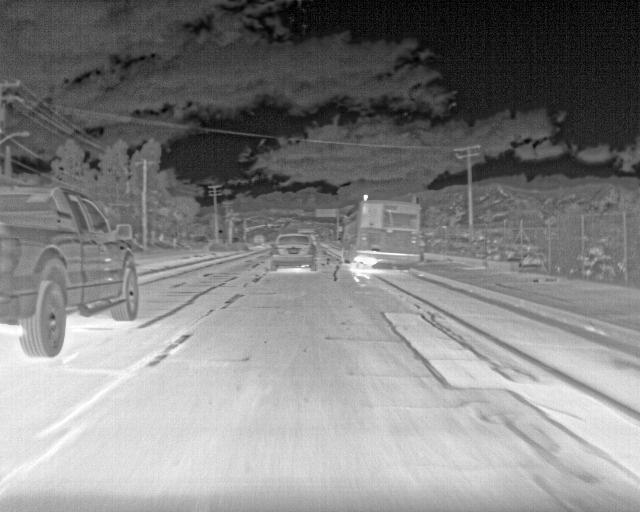car: (2, 180, 140, 359), (269, 232, 318, 272), (294, 228, 317, 248), (250, 233, 265, 245)
